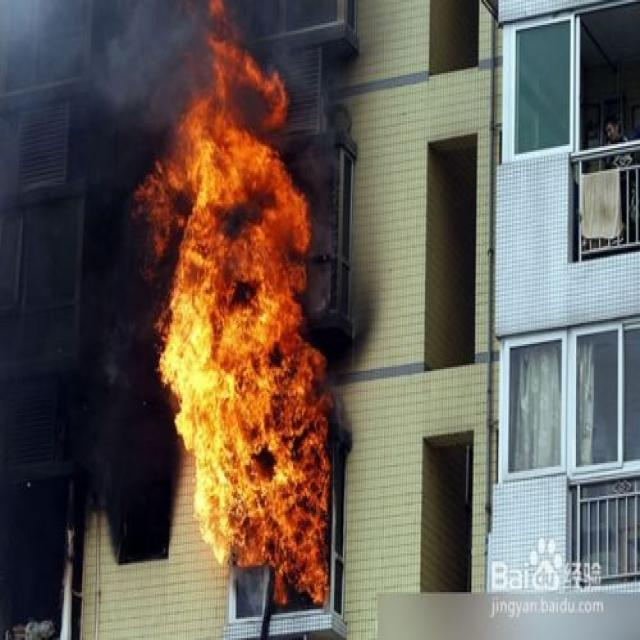Fire: (133, 32, 333, 606)
Smoke: (0, 0, 136, 592), (96, 1, 186, 120)
